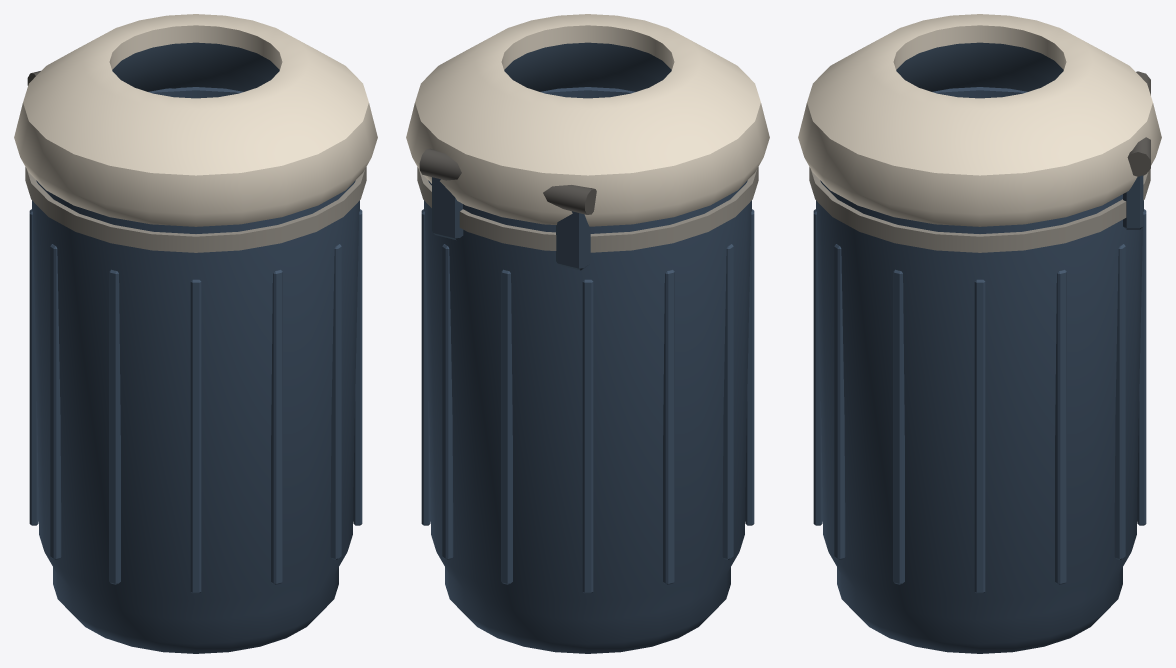
File: bin-portable.glb
The picture shows the model from 3 angles, left to right: view 1: azimuth 30°, elevation 25°; view 2: azimuth 150°, elevation 25°; view 3: azimuth 270°, elevation 25°; orthographic projection.
Parts seen in each view (by area): view 1: bin.bin.drum.0, bin.bin.lid.1, bin.bin.mouth.inner-baffle.2; view 2: bin.bin.drum.0, bin.bin.lid.1, bin.bin.mouth.inner-baffle.2, bin.bin.lid.hinge.3; view 3: bin.bin.drum.0, bin.bin.lid.1, bin.bin.mouth.inner-baffle.2, bin.bin.lid.hinge.3.
Boxes of the visible parts, left/top/right/bottom form: bin.bin.drum.0: left=25, top=87, right=366, bottom=653; bin.bin.lid.1: left=14, top=14, right=377, bottom=226; bin.bin.mouth.inner-baffle.2: left=112, top=42, right=279, bottom=91; bin.bin.drum.0: left=417, top=87, right=758, bottom=653; bin.bin.lid.1: left=406, top=14, right=769, bottom=226; bin.bin.mouth.inner-baffle.2: left=504, top=42, right=671, bottom=91; bin.bin.lid.hinge.3: left=419, top=148, right=596, bottom=270; bin.bin.drum.0: left=809, top=87, right=1150, bottom=653; bin.bin.lid.1: left=798, top=14, right=1161, bottom=226; bin.bin.mouth.inner-baffle.2: left=896, top=42, right=1063, bottom=91; bin.bin.lid.hinge.3: left=1123, top=71, right=1150, bottom=229.
Size of the model in its own units: 0.61 by 0.995 by 0.61.
